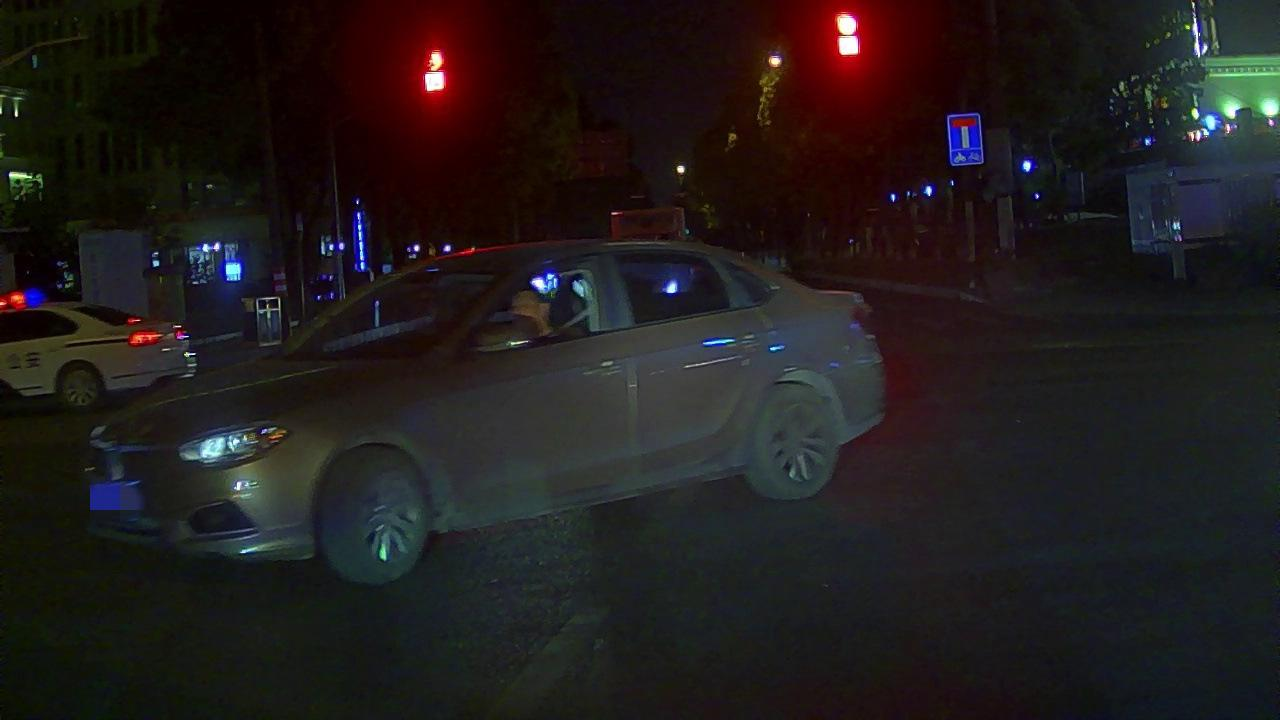traffic_light: (830, 7, 866, 73), (418, 44, 451, 106)
